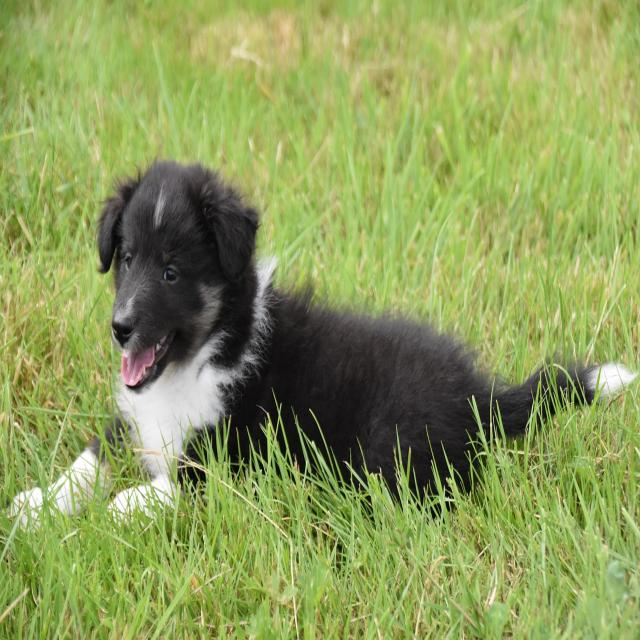dog: (9, 162, 638, 518)
